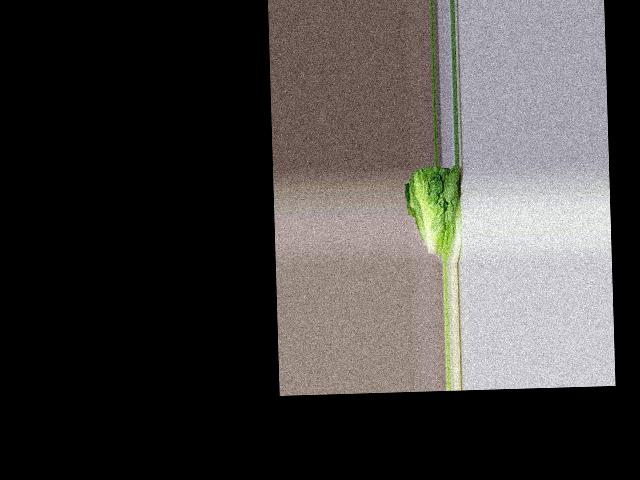lettuce: (411, 164, 465, 259)
